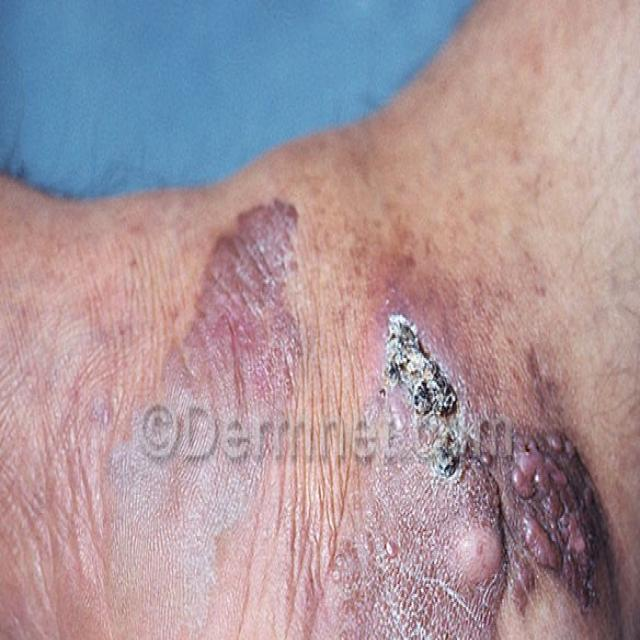Vascular Tumors: (321, 272, 640, 640), (118, 196, 309, 547)
